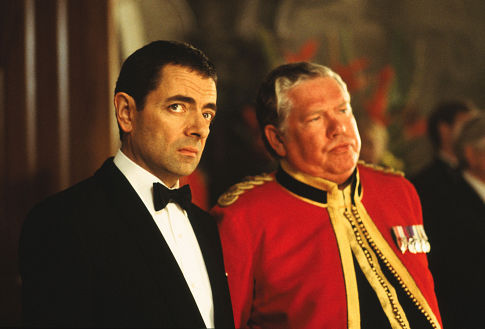37: (122, 49, 227, 194)
48: (272, 58, 370, 190)
Coat: (196, 152, 457, 329), (4, 142, 247, 329)
Male: (122, 49, 227, 194), (272, 58, 370, 190)
Tie: (149, 179, 198, 219)
